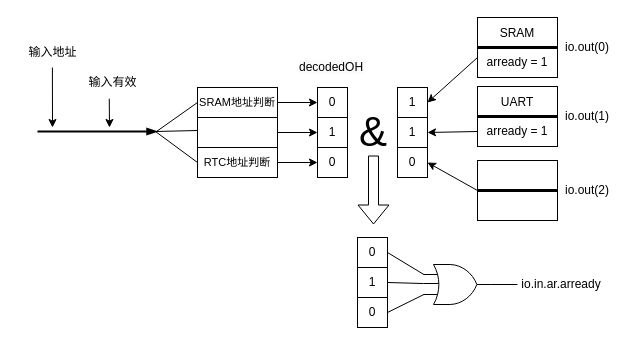
Some shapes in this 634 by 345 pixel diagram are drawn without their labels. Each missing label, with the centre of its shape:
"RTC arready = 0" goes at [517,190].
"UART地址判断" goes at [237,132].
